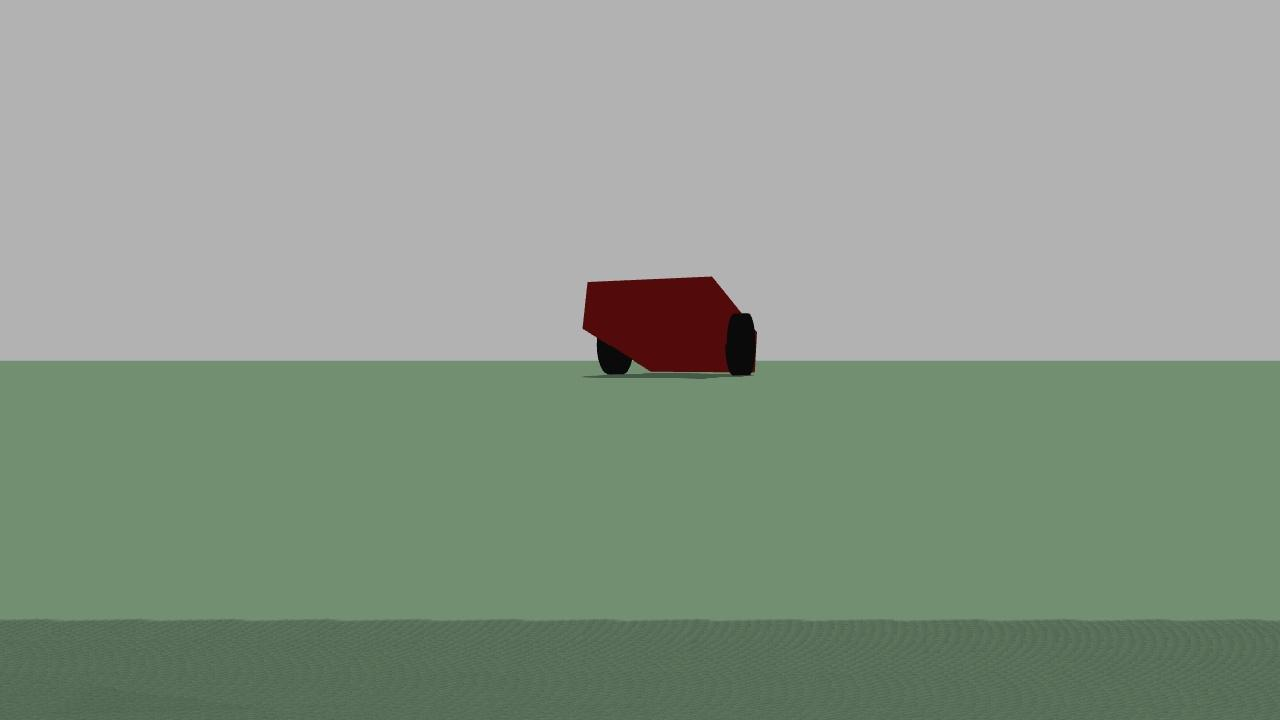ground_vehicle: (580, 269, 766, 385)
